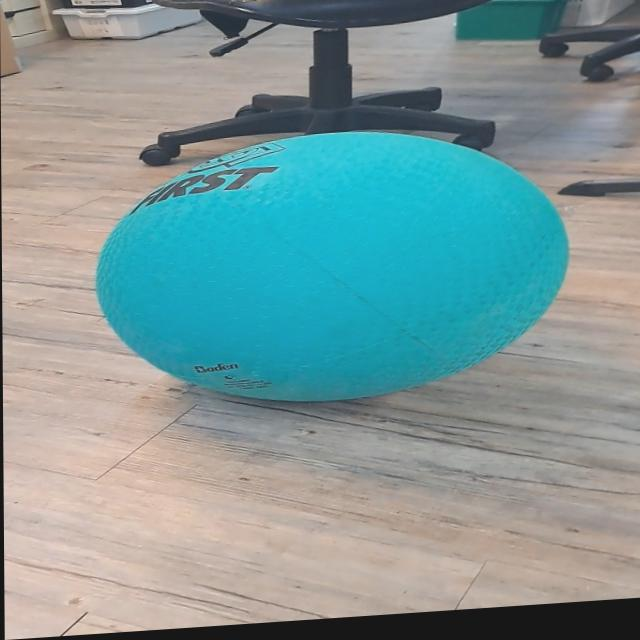ALGAE: (91, 115, 571, 418)
